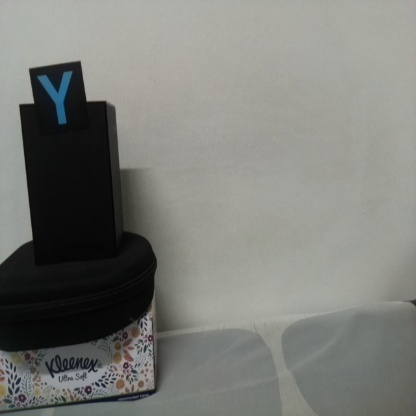id_14: (29, 68, 86, 133)
